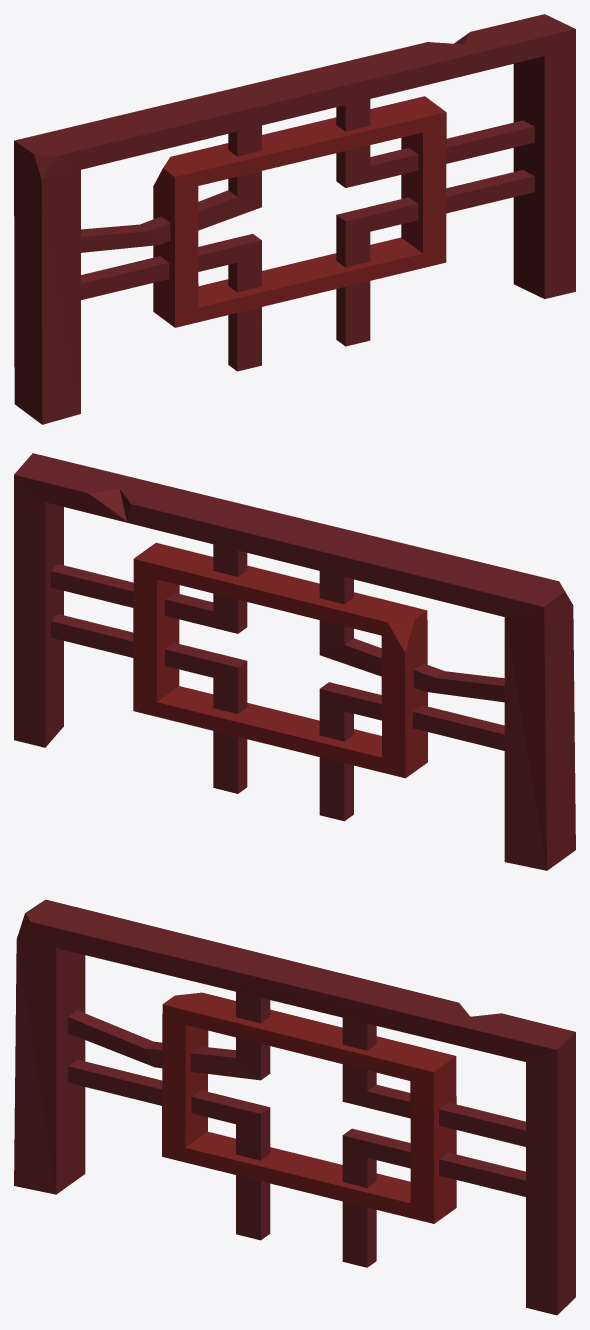
Rendered from Fence_4_2 Asia.fbx.
3 renders of one model, top to bottom at view 1: azimuth 30°, elevation 25°; view 2: azimuth 150°, elevation 25°; view 3: azimuth 330°, elevation 25°, orthographic.
Parts seen in each view (by area): view 1: Fence_4_2; view 2: Fence_4_2; view 3: Fence_4_2.
Part boxes in pixels (x1,y1,x2,y2): Fence_4_2: (14, 14, 575, 424); Fence_4_2: (14, 453, 575, 870); Fence_4_2: (14, 899, 575, 1315).
Size of the model in its own units: 1.73 by 0.8325 by 0.1671.
